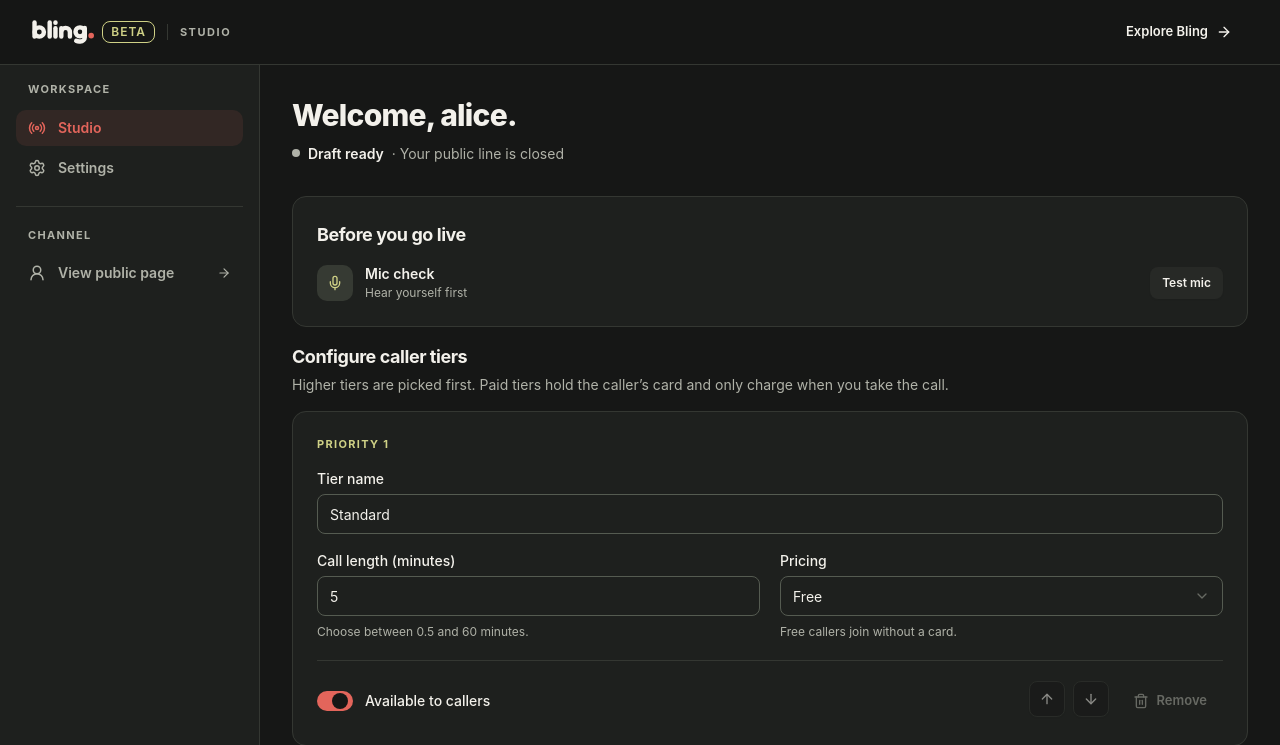
Test case: App routes › prices a tier once payouts are ready
Click the dropdown named "Standard pricing" at (808, 596), box [780,576,1223,616]
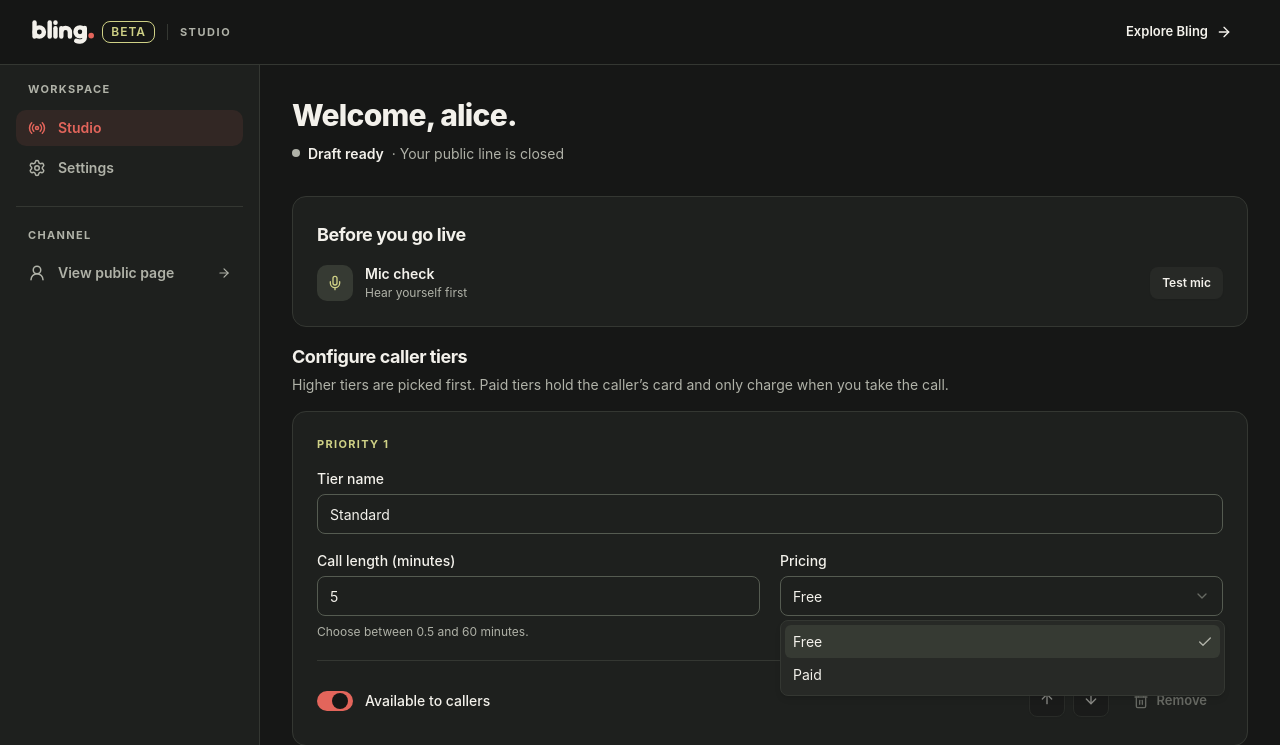
Click the option "Paid" at (807, 674), box [793,666,822,683]
(page scrolled)
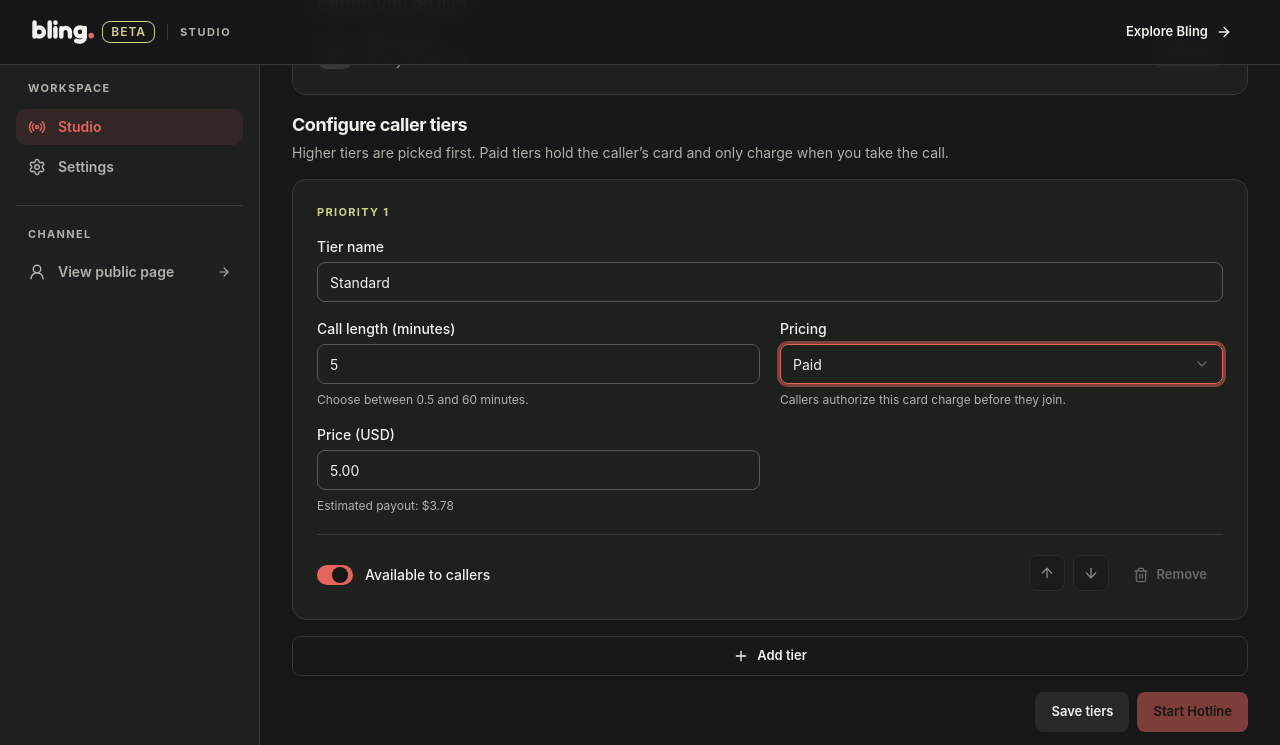
Result: the field named "Standard price in USD" holds "5.00" at [317,450,760,490]
Result: the text "Estimated payout: $3.78" is shown at [317,498,454,513]
Result: the button "Save tiers" is enabled at [1035,692,1129,732]
